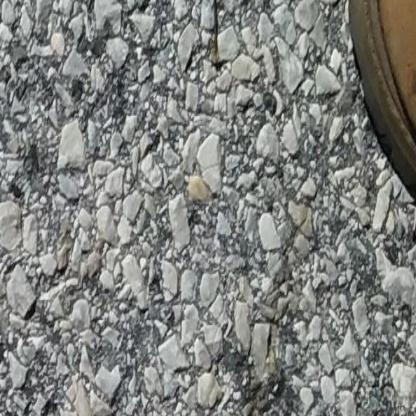Cracks: (234, 300, 318, 416)
